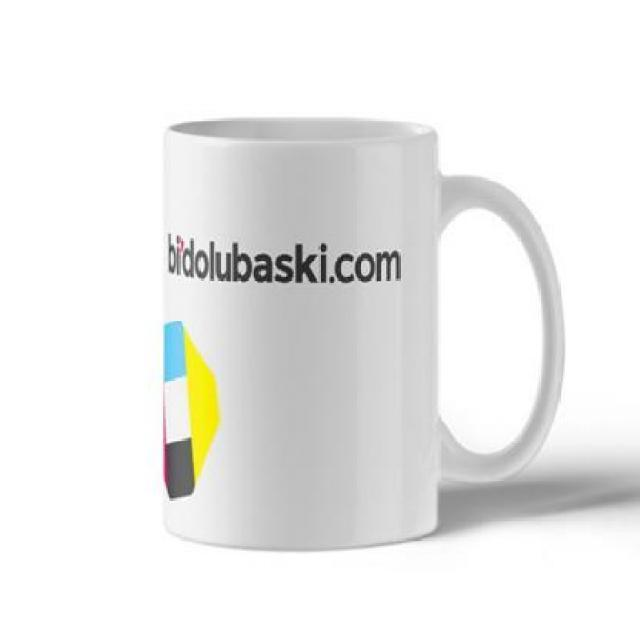taza: (163, 115, 566, 551)
